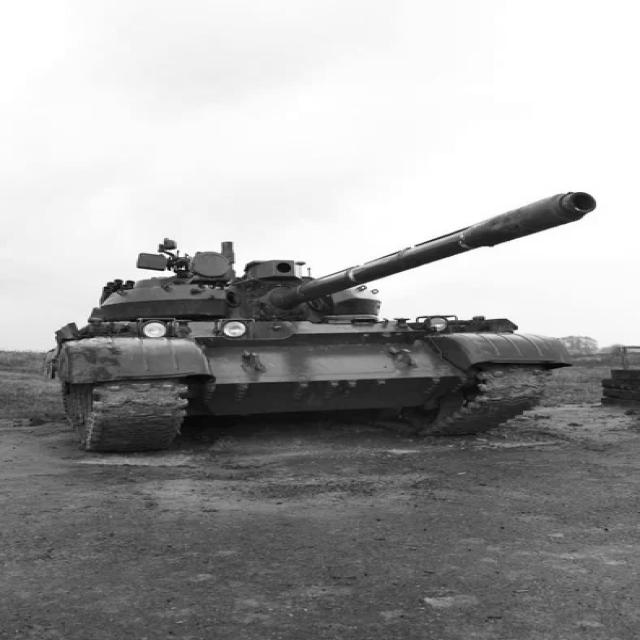Tank: (67, 187, 602, 454)
